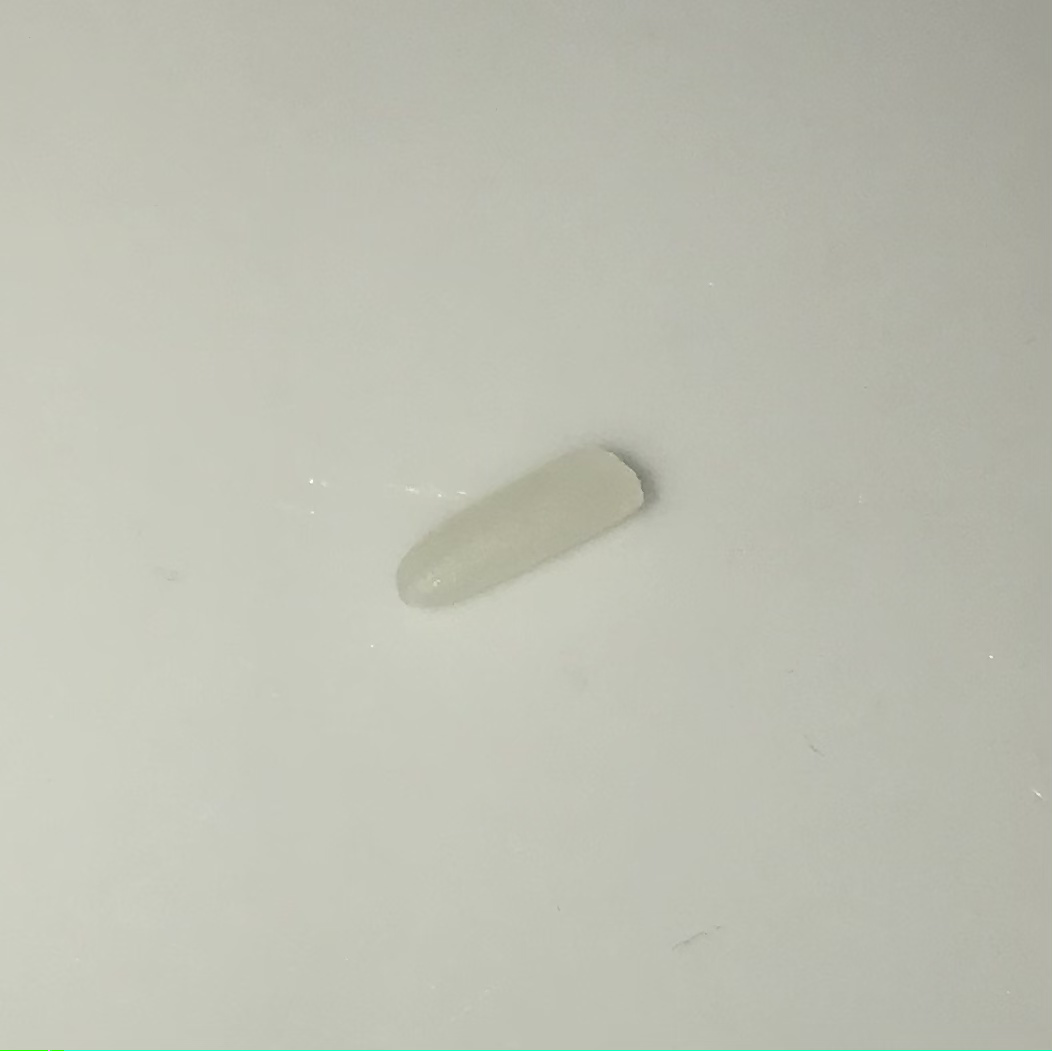Gao Thom Go Cong: (365, 404, 658, 615)
